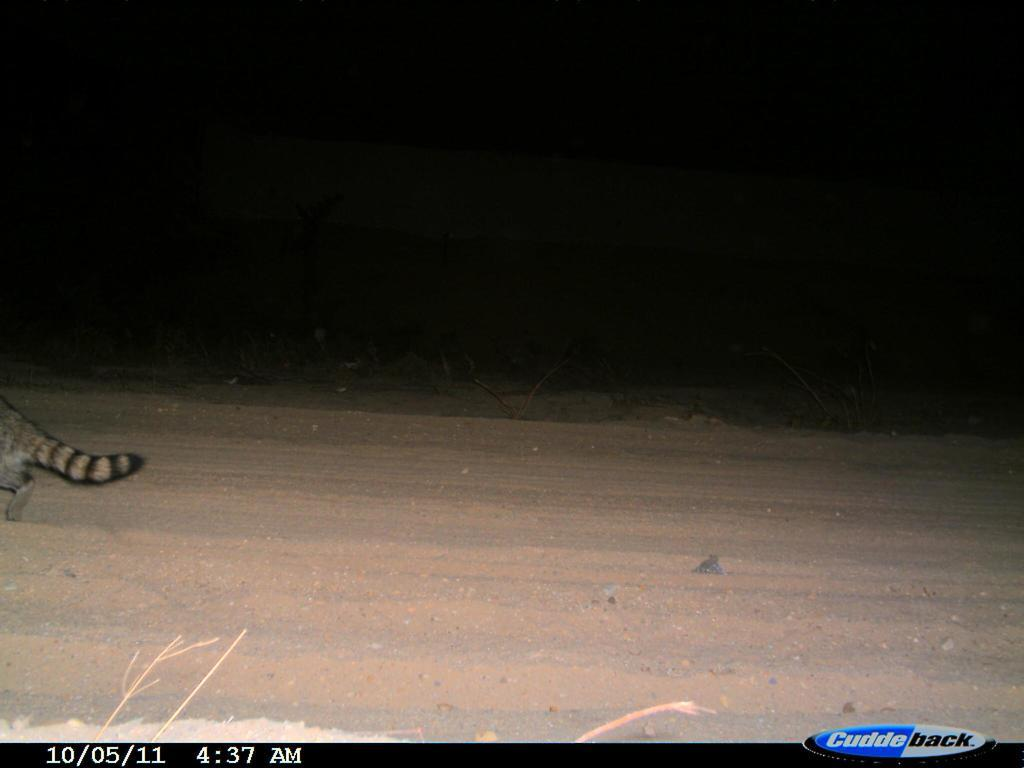raccoon: (1, 382, 153, 530)
